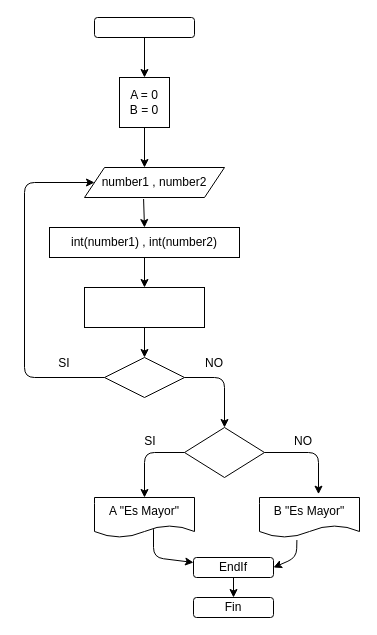
This 377x635 diagram has some shape labels left out. The box of each missing label's shape, as (x1, y1, x2, y2) in pixels:
A = B: (104, 356, 184, 398)
A = number1 B = number2: (84, 286, 204, 328)
A > B: (184, 426, 264, 478)
Inicio: (94, 16, 194, 38)
